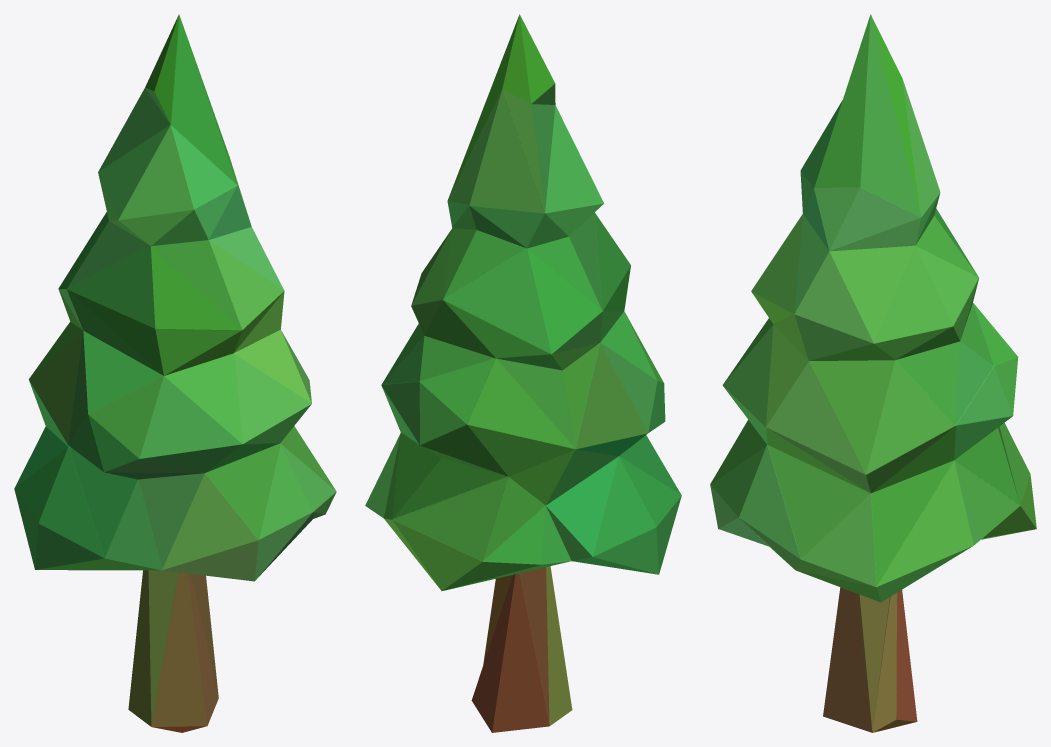
The model's file is tree.glb.
3 renders of one model, left to right at view 1: azimuth 30°, elevation 25°; view 2: azimuth 150°, elevation 25°; view 3: azimuth 270°, elevation 25°, orthographic.
Size of the model in its own units: 0.8303 by 1.99 by 0.8281.
1 material, 1 textured.
